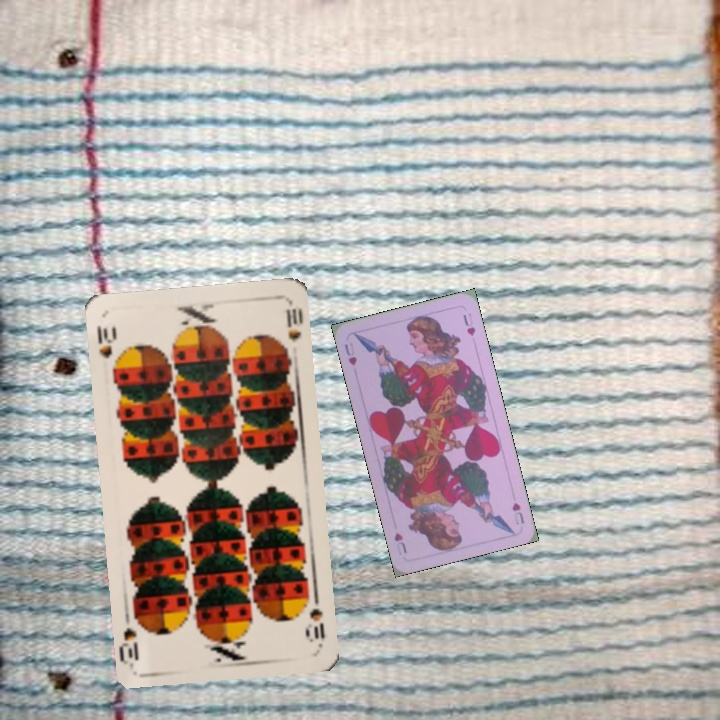HU: (340, 339, 359, 368), (508, 498, 527, 527)
S10: (93, 322, 121, 375), (303, 604, 327, 645)
